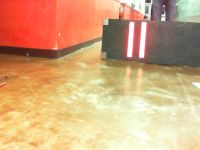switch: (127, 21, 134, 58), (139, 22, 146, 58)
